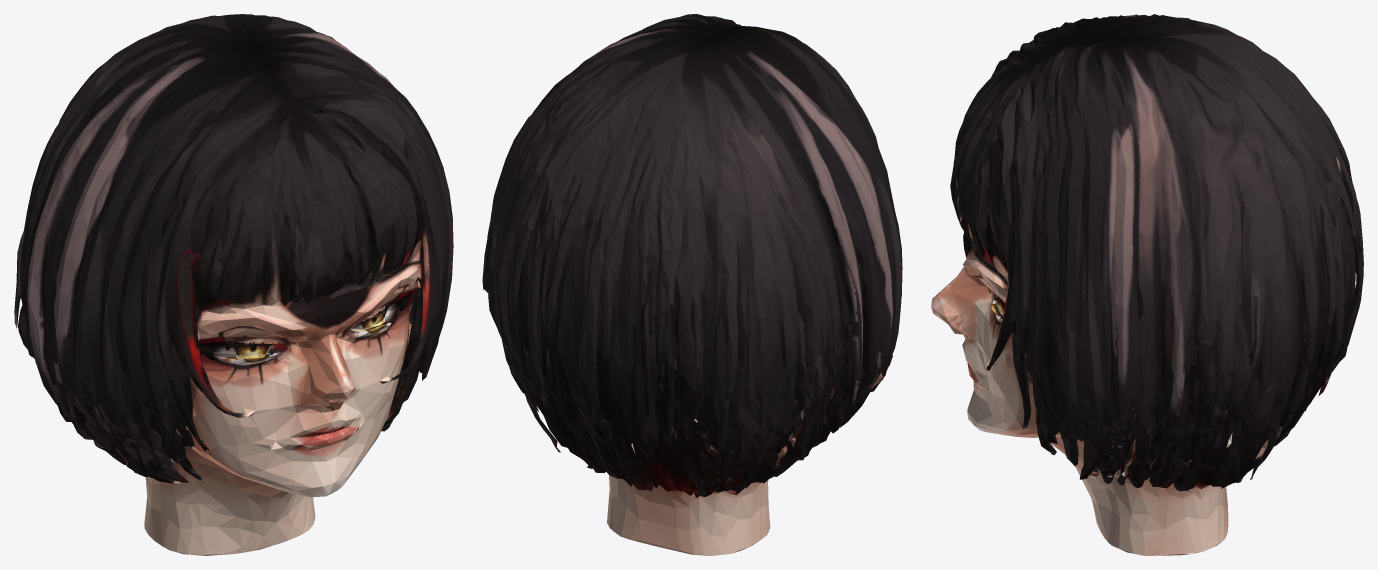
The model's file is side_hanae_repaired_atlas.glb.
3 renders of one model, left to right at view 1: azimuth 30°, elevation 25°; view 2: azimuth 150°, elevation 25°; view 3: azimuth 270°, elevation 25°, orthographic. The views are drawn at different scales.
Parts seen in each view (by area): view 1: temp_mesh.ply; view 2: temp_mesh.ply; view 3: temp_mesh.ply.
Boxes of the visible parts, x1=… form: temp_mesh.ply: x1=14, y1=14, x2=453, y2=555; temp_mesh.ply: x1=482, y1=14, x2=902, y2=555; temp_mesh.ply: x1=931, y1=14, x2=1363, y2=555.
Bounding box in the file's own units: 1.61 × 1.97 × 1.59.
1 material, 1 textured.
